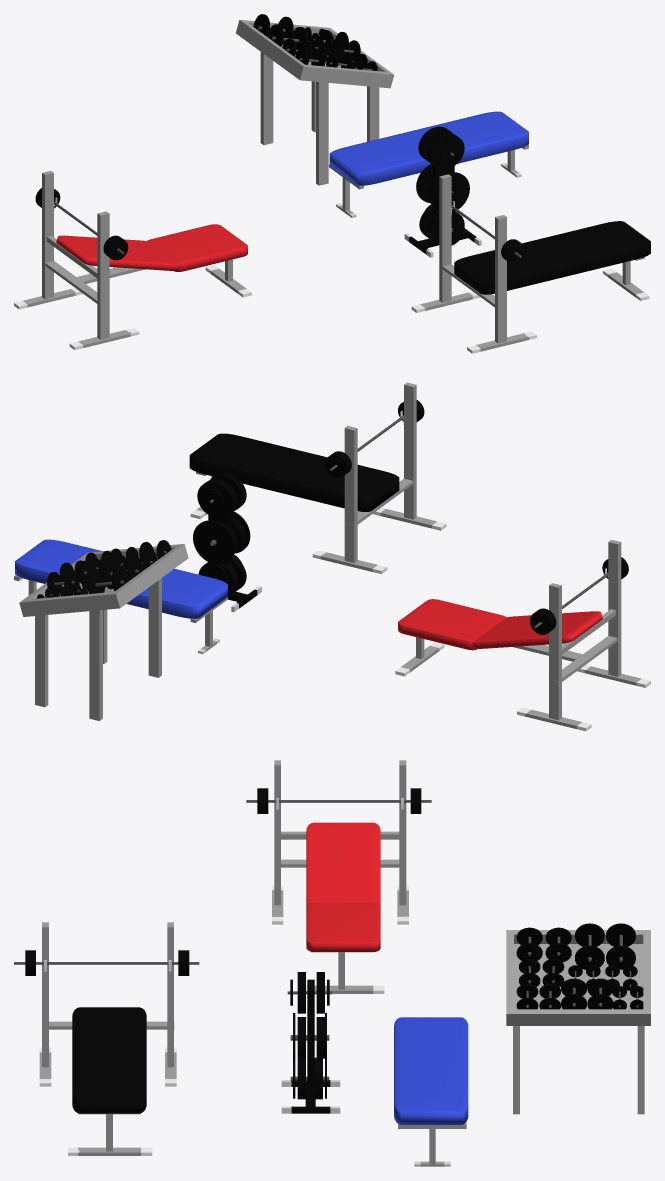
The model's file is Gym2.fbx.
The picture shows the model from 3 angles, top to bottom: view 1: azimuth 30°, elevation 25°; view 2: azimuth 150°, elevation 25°; view 3: azimuth 270°, elevation 25°; orthographic projection. The views are drawn at different scales.
Parts seen in each view (by area): view 1: Roundcube, Cube.004, Roundcube.002, Cube.001, Roundcube.001, Cube.009, Cylinder.022, Cylinder, Cylinder.001, Cylinder.019, Cylinder.004, Cylinder.005; view 2: Cube.004, Roundcube, Cube.001, Roundcube.001, Cube.009, Roundcube.002, Cylinder.022, Cylinder, Cylinder.001, Cylinder.020, Cylinder.005, Cylinder.004 (+1 smaller); view 3: Roundcube.001, Roundcube.002, Roundcube, Cube.004, Cube.009, Cube.001, Cylinder.004, Cylinder.005, Cylinder.001, Cylinder, Cube.011, Cylinder.003 (+3 smaller).
Part boxes in pixels (box(x1,y1,x2,y2)): Roundcube: box(454, 221, 650, 294); Cube.004: box(236, 19, 394, 185); Roundcube.002: box(329, 111, 528, 185); Cube.001: box(14, 170, 251, 349); Roundcube.001: box(56, 224, 247, 271); Cube.009: box(411, 174, 649, 353); Cylinder.022: box(416, 164, 469, 212); Cylinder: box(433, 192, 525, 263); Cylinder.001: box(35, 188, 128, 260); Cylinder.019: box(427, 133, 464, 169); Cylinder.004: box(267, 24, 307, 53); Cylinder.005: box(253, 14, 293, 44); Cube.004: box(19, 544, 188, 720); Roundcube: box(189, 433, 399, 511); Cube.001: box(395, 539, 650, 731); Roundcube.001: box(398, 599, 602, 650); Cube.009: box(190, 382, 446, 574); Roundcube.002: box(15, 539, 227, 618); Cylinder.022: box(193, 511, 250, 564); Cylinder: box(325, 400, 424, 477); Cylinder.001: box(530, 557, 628, 634); Cylinder.020: box(197, 479, 237, 518); Cylinder.005: box(86, 567, 129, 593); Cylinder.004: box(101, 556, 144, 589); Roundcube.001: box(306, 822, 380, 951); Roundcube.002: box(394, 1017, 468, 1124); Roundcube: box(72, 1007, 146, 1113); Cube.004: box(506, 930, 650, 1114); Cube.009: box(39, 922, 176, 1155); Cube.001: box(272, 760, 408, 993); Cylinder.004: box(575, 923, 604, 969); Cylinder.005: box(606, 923, 635, 969); Cylinder.001: box(246, 788, 431, 813); Cylinder: box(14, 950, 199, 975); Cube.011: box(307, 979, 314, 1099); Cylinder.003: box(545, 927, 571, 962).
Size of the model in its own units: 804 by 208 by 769.
